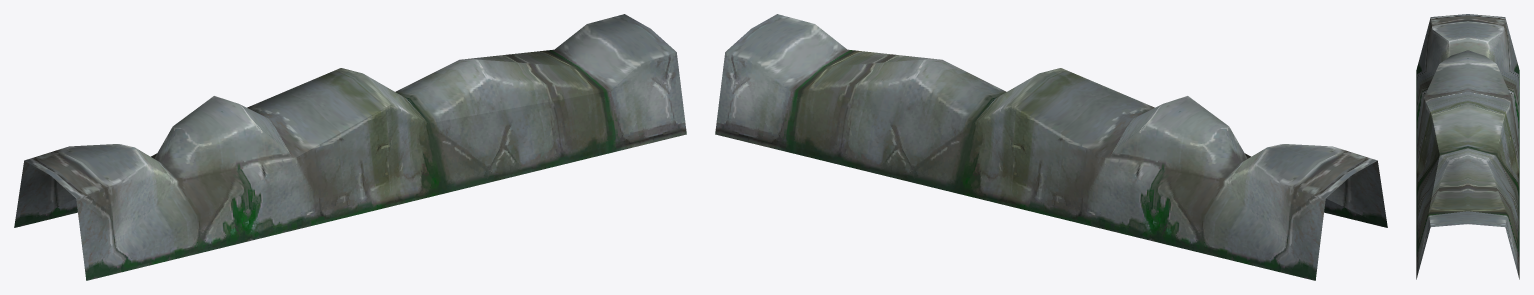
The model's file is stemple_cap_straight_01.fbx.
3 views of the same model, side by side, from view 1: azimuth 30°, elevation 25°; view 2: azimuth 150°, elevation 25°; view 3: azimuth 270°, elevation 25° (orthographic). The views are drawn at different scales.
Visible parts, largest first — view 1: sunken_tileset/sunken_quarter03_mat; view 2: sunken_tileset/sunken_quarter03_mat; view 3: sunken_tileset/sunken_quarter03_mat.
Part boxes in pixels (x1,y1,x2,y2): sunken_tileset/sunken_quarter03_mat: (14,14,686,280); sunken_tileset/sunken_quarter03_mat: (715,14,1387,280); sunken_tileset/sunken_quarter03_mat: (1416,14,1519,279).
Size of the model in its own units: 4 by 0.6672 by 0.8328.
